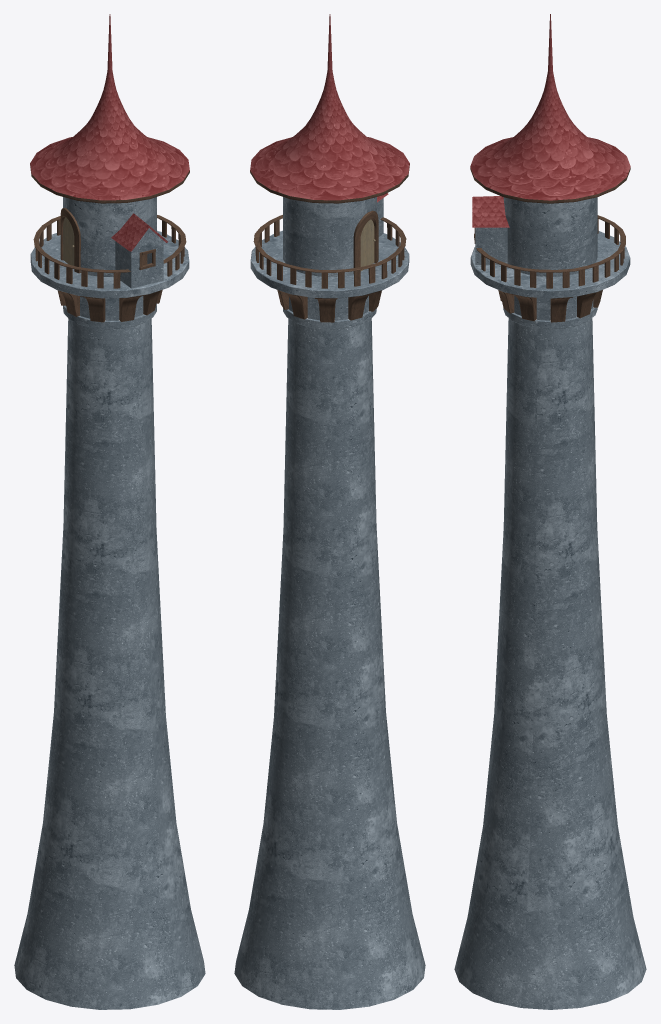
Rendered from FairyTower.fbx.
3 views of the same model, side by side, from view 1: azimuth 30°, elevation 25°; view 2: azimuth 150°, elevation 25°; view 3: azimuth 270°, elevation 25° (orthographic).
Parts seen in each view (by area): view 1: tower_mesh, fence_mesh, door_arc_mesh, door_mesh; view 2: tower_mesh, fence_mesh, door_arc_mesh, door_mesh; view 3: tower_mesh, fence_mesh.
Boxes of the visible parts, left/top/right/bottom form: tower_mesh: left=14, top=14, right=205, bottom=1009; fence_mesh: left=33, top=215, right=186, bottom=288; door_arc_mesh: left=60, top=208, right=80, bottom=273; door_mesh: left=63, top=217, right=74, bottom=265; tower_mesh: left=234, top=14, right=425, bottom=1009; fence_mesh: left=253, top=215, right=406, bottom=288; door_arc_mesh: left=353, top=210, right=378, bottom=273; door_mesh: left=360, top=219, right=374, bottom=271; tower_mesh: left=454, top=14, right=646, bottom=1009; fence_mesh: left=476, top=215, right=625, bottom=288.
Bounding box in the file's own units: 8.65 × 47.42 × 8.65.
